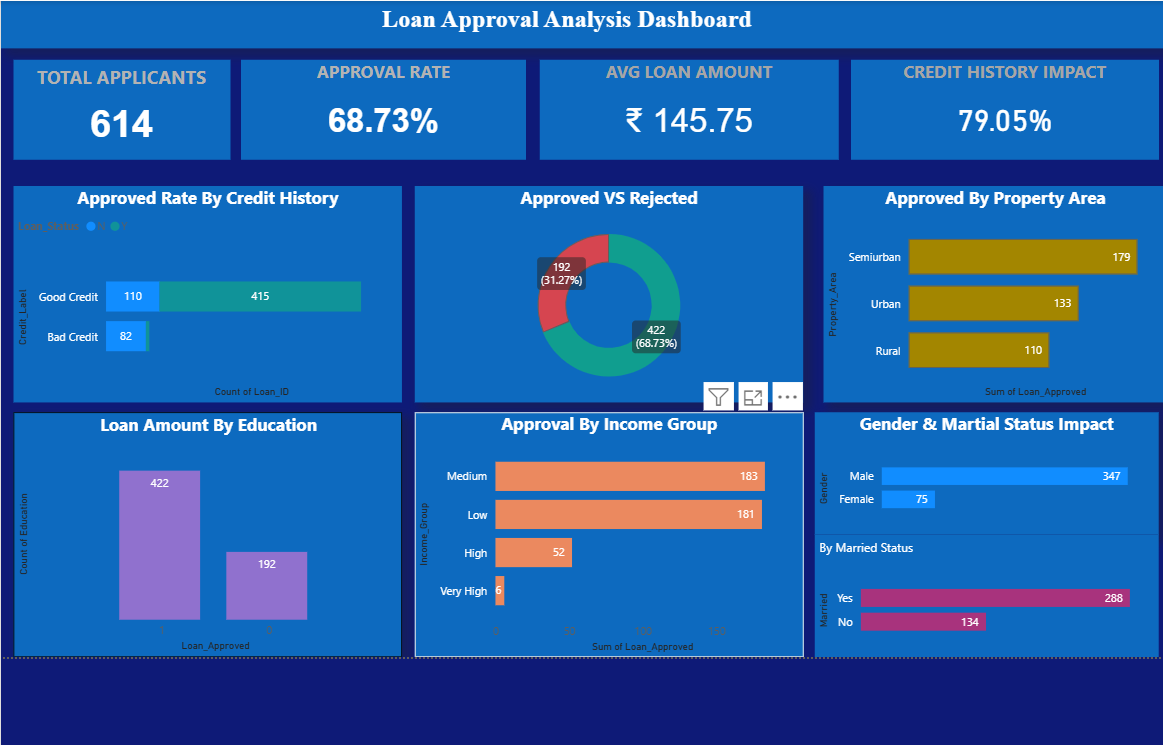

The dashboard page shown, as its layout file describes it:
{"tool":"powerbi","page":{"name":"Page 1","canvas":[1280,720],"ordinal":0},"visuals":[{"type":"textbox","box":[0,0,1280.3,52.1],"z":0},{"type":"advanceCardE03760C5AB684758B56AA29F9E6C257B","fields":{"mainMeasure":["CountNonNull(loan_data_clean.Loan_ID)"]},"box":[13.7,64.5,237.4,109.8],"z":1},{"type":"advanceCardE03760C5AB684758B56AA29F9E6C257B","title":"APPROVAL RATE","fields":{"mainMeasure":["loan_data_clean.Approval Rate"]},"box":[263.5,64.5,312.9,109.8],"z":2},{"type":"advanceCardE03760C5AB684758B56AA29F9E6C257B","title":"AVG LOAN AMOUNT","fields":{"mainMeasure":["Avg(loan_data_clean.LoanAmount)"]},"box":[591.4,64.5,328,109.8],"z":3},{"type":"advanceCardE03760C5AB684758B56AA29F9E6C257B","title":"CREDIT HISTORY IMPACT","fields":{"mainMeasure":["loan_data_clean.Good Credit Approval"]},"box":[933.1,64.5,337.6,109.8],"z":4},{"type":"barChart","title":"Approved Rate By Credit History","fields":{"Y":["CountNonNull(loan_data_clean.Loan_ID)"],"Series":["loan_data_clean.Loan_Status"],"Category":["loan_data_clean.Credit_Label"]},"box":[13.7,203.1,426.8,237.4],"z":5},{"type":"donutChart","title":"Approved VS Rejected","fields":{"Category":["loan_data_clean.Loan_Status"],"Y":["CountNonNull(loan_data_clean.Loan_ID)"]},"box":[454.2,203.1,426.8,237.4],"z":6},{"type":"barChart","title":"Approved By Property Area","fields":{"Category":["loan_data_clean.Property_Area"],"Y":["Sum(loan_data_clean.Loan_Approved)"]},"box":[902.9,203.1,377.4,237.4],"z":7},{"type":"columnChart","title":"Loan Amount By Education","fields":{"Y":["CountNonNull(loan_data_clean.Education)"],"Category":["loan_data_clean.Loan_Approved"]},"box":[13.7,451.5,426.8,269],"z":8},{"type":"barChart","title":"Approval By Income Group","fields":{"Category":["loan_data_clean.Income_Group"],"Y":["Sum(loan_data_clean.Loan_Approved)"]},"box":[454,451,427,269],"z":9},{"type":"barChart","title":"Gender & Martial Status Impact","fields":{"Category":["loan_data_clean.Gender"],"Y":["Sum(loan_data_clean.Loan_Approved)"]},"box":[893.3,451.5,377.4,134.5],"z":10},{"type":"barChart","fields":{"Category":["loan_data_clean.Married"],"Y":["Sum(loan_data_clean.Loan_Approved)"]},"box":[893.3,585.9,377.4,134.5],"z":11}]}

Visuals, with their boxes in screenshot pixels (x1, y1, x2, y2):
textbox: bbox=[0, 0, 1162, 48]
advanceCardE03760C5AB684758B56AA29F9E6C257B - CountNonNull(loan_data_clean.Loan_ID): bbox=[1, 60, 221, 162]
"APPROVAL RATE" advanceCardE03760C5AB684758B56AA29F9E6C257B: bbox=[233, 60, 523, 162]
"AVG LOAN AMOUNT" advanceCardE03760C5AB684758B56AA29F9E6C257B: bbox=[537, 60, 842, 162]
"CREDIT HISTORY IMPACT" advanceCardE03760C5AB684758B56AA29F9E6C257B: bbox=[855, 60, 1162, 162]
"Approved Rate By Credit History" barChart: bbox=[1, 189, 397, 409]
"Approved VS Rejected" donutChart: bbox=[410, 189, 806, 409]
"Approved By Property Area" barChart: bbox=[827, 189, 1162, 409]
"Loan Amount By Education" columnChart: bbox=[1, 419, 397, 669]
"Approval By Income Group" barChart: bbox=[410, 419, 806, 669]
"Gender & Martial Status Impact" barChart: bbox=[818, 419, 1162, 544]
barChart - loan_data_clean.Married x Sum(loan_data_clean.Loan_Approved): bbox=[818, 544, 1162, 669]
